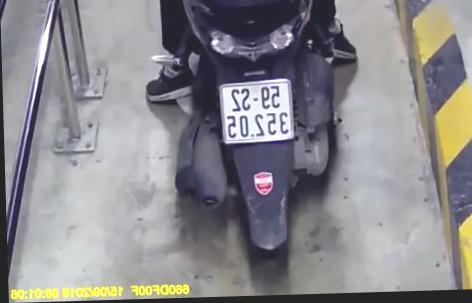License_Plate: (217, 74, 301, 148)
